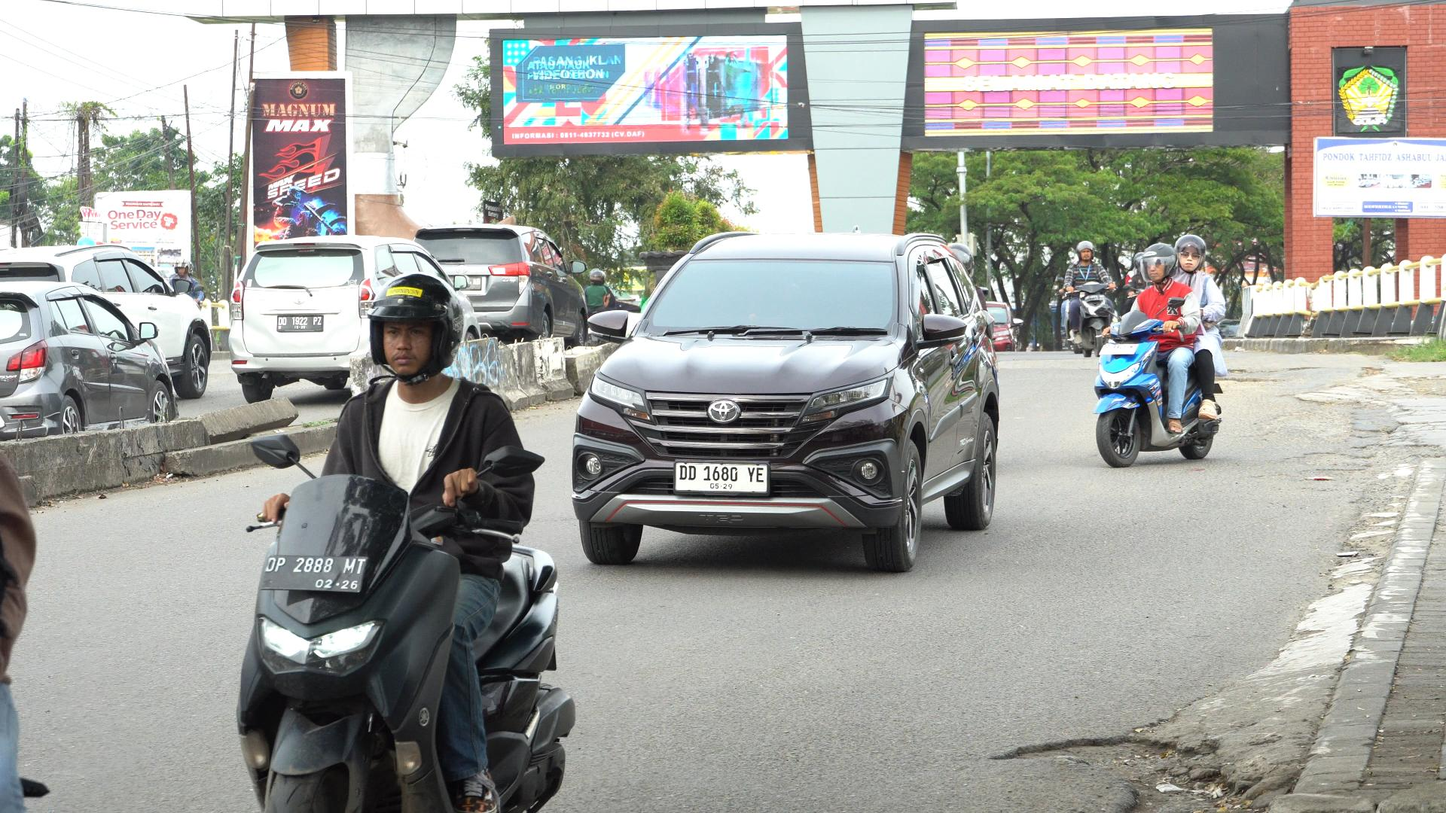number-plate: (261, 556, 369, 591)
